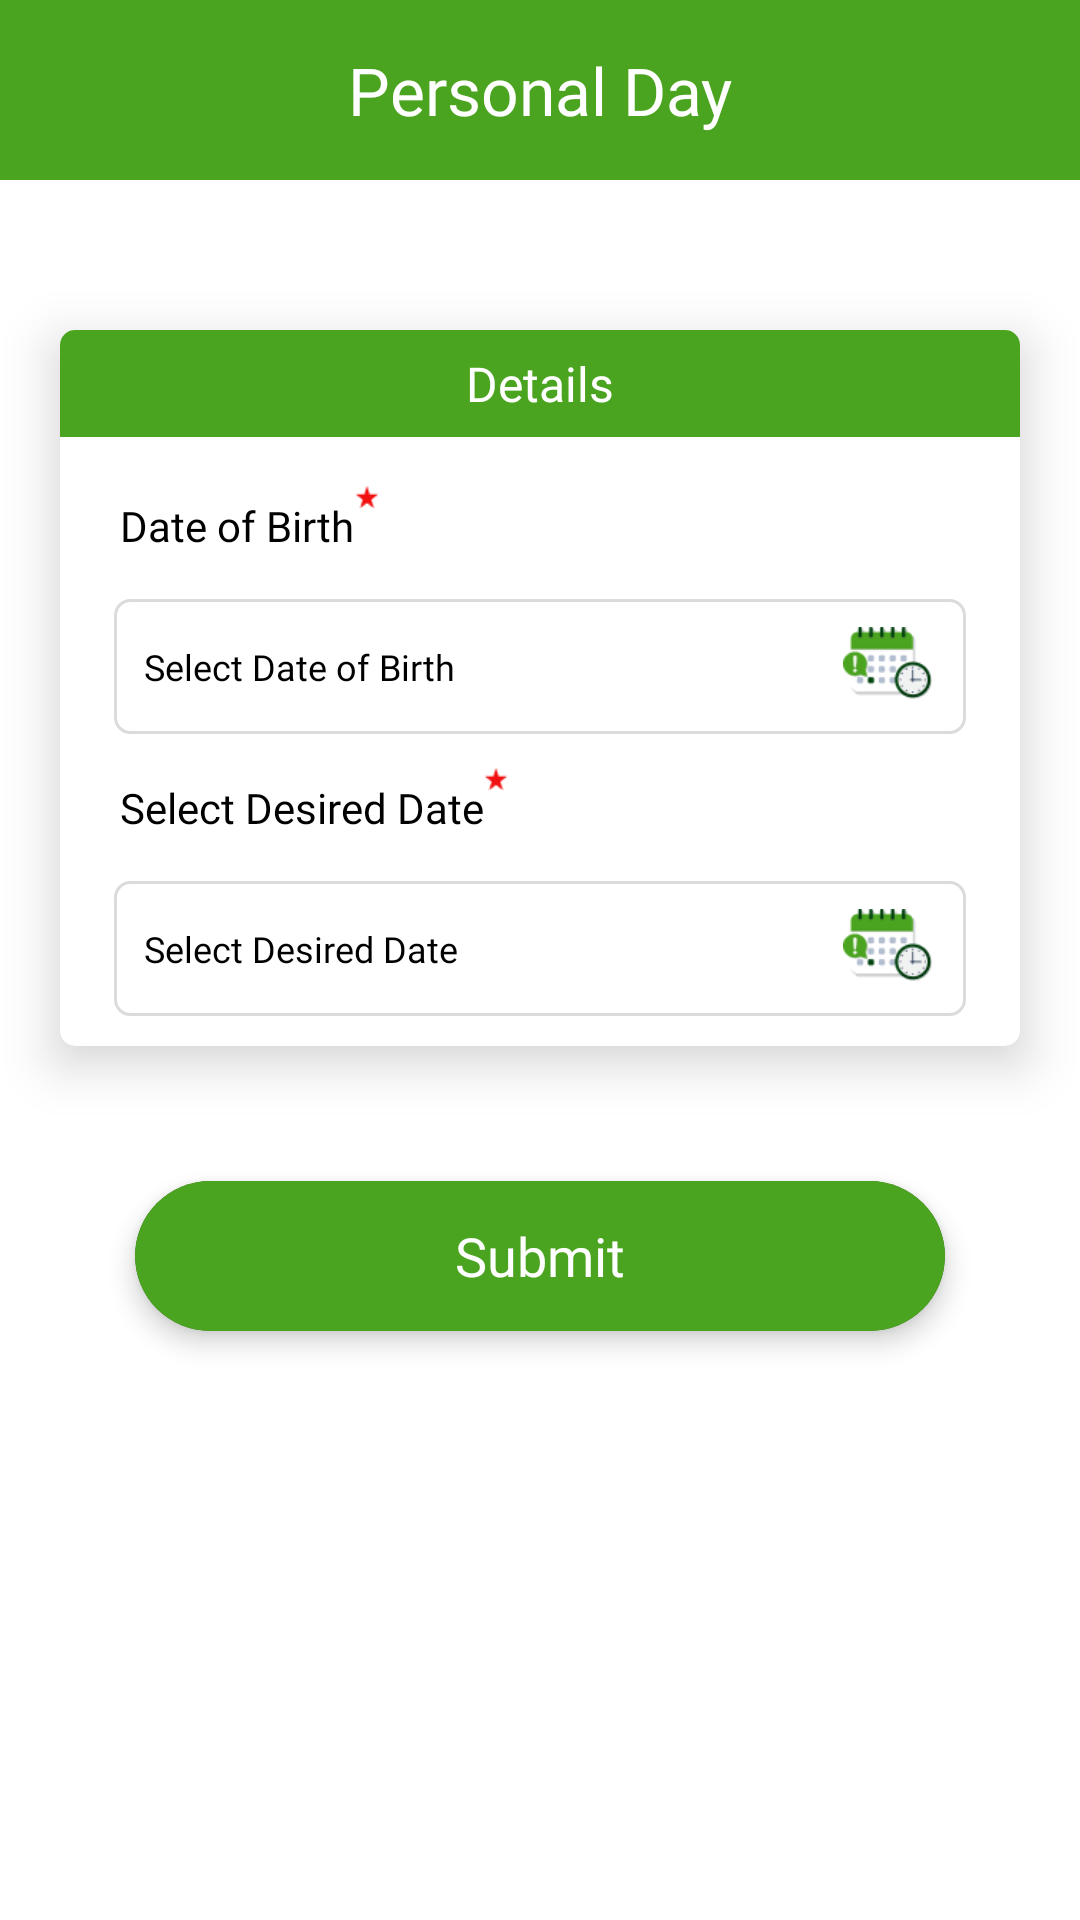

Where icons sit on this 1080x1920 app screen, as (x1, y1, x2, y2):
calander: (843, 627, 932, 699), (843, 909, 932, 981)
